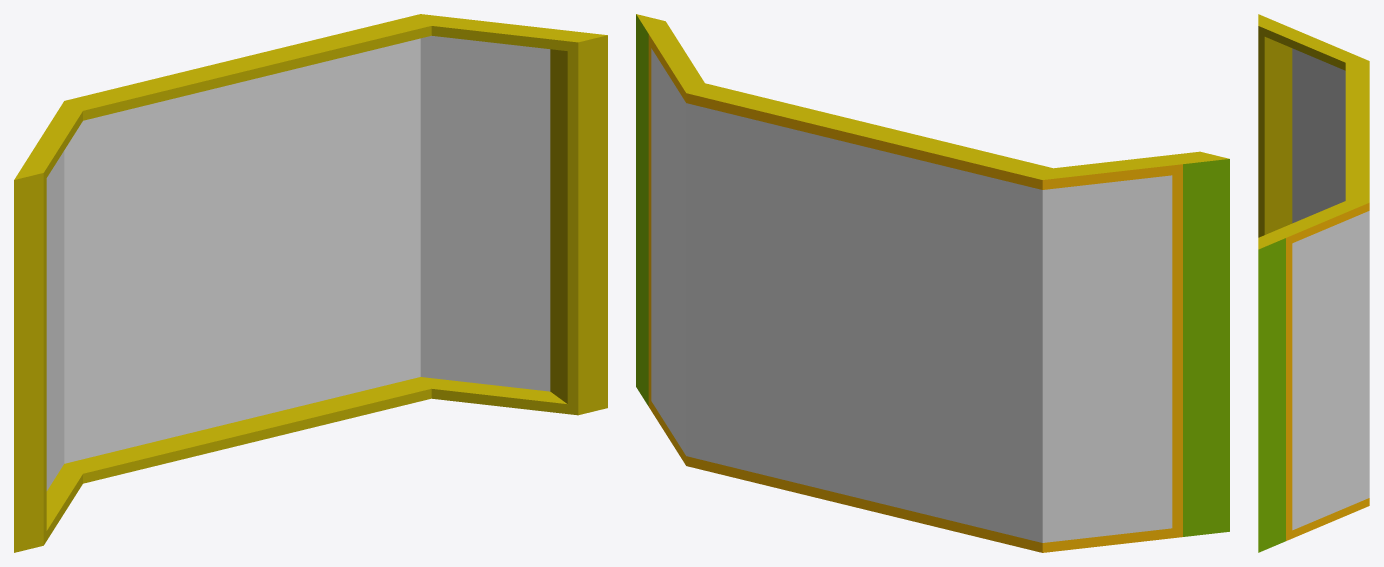
Rendered from window_panoramic_5x1x3.dae.
3 views of the same model, side by side, from view 1: azimuth 30°, elevation 25°; view 2: azimuth 150°, elevation 25°; view 3: azimuth 270°, elevation 25° (orthographic). The views are drawn at different scales.
Visible parts, largest first — view 1: Cube; view 2: Cube; view 3: Cube.
Part boxes in pixels (x1,y1,x2,y2): Cube: (14, 14, 607, 552); Cube: (636, 14, 1229, 552); Cube: (1258, 14, 1369, 552).
Size of the model in its own units: 1.25 by 0.25 by 0.75.
